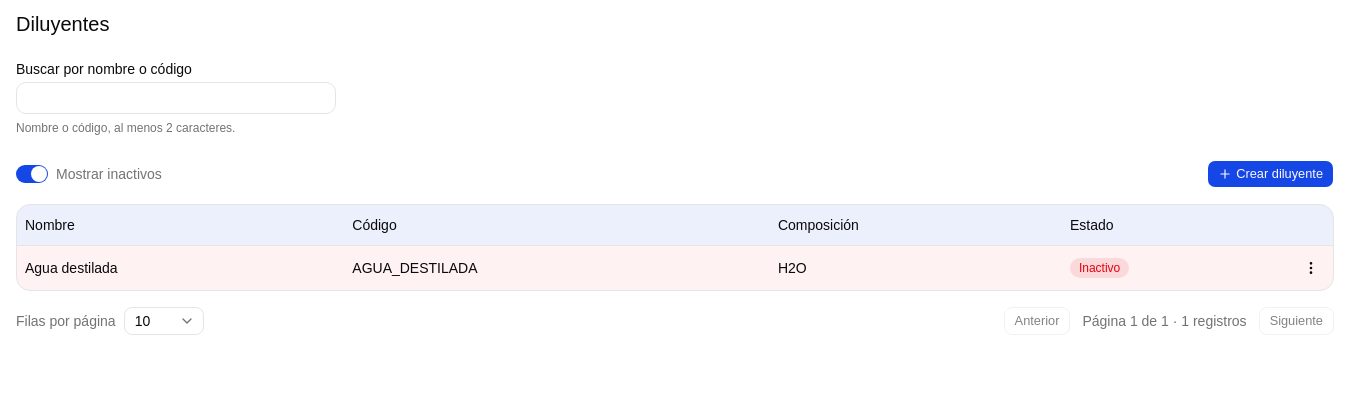
DiluentListPage — acciones por rol › con SUPERADMIN, una fila inactiva ofrece «Editar», «Ver auditoría» y «Reactivar»
Click the button named "Acciones del diluyente" at (1311, 268), box [1297, 254, 1325, 282]
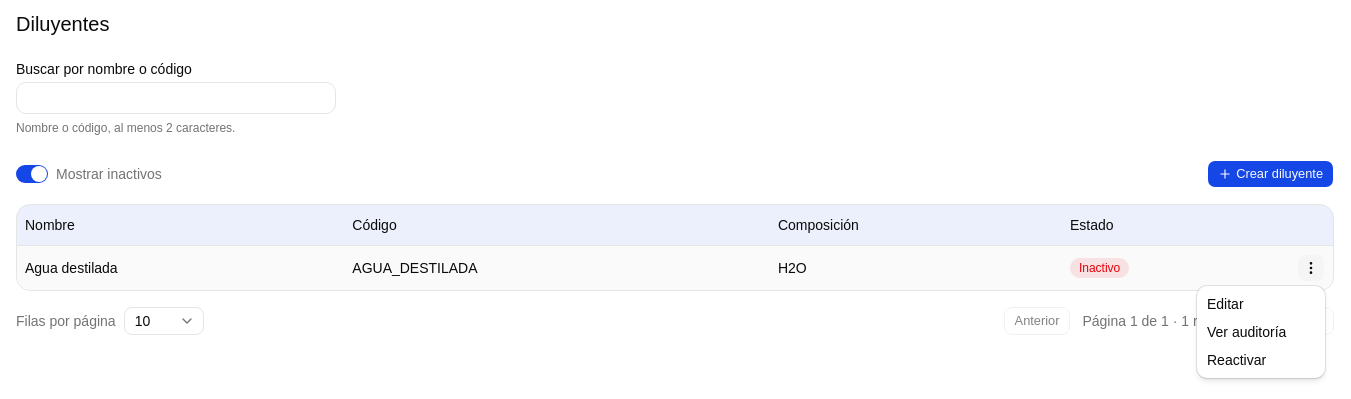
Expected: the menu item "Editar" is shown, [1207, 296, 1244, 312]
Expected: the menu item "Ver auditoría" is shown, [1207, 324, 1286, 340]
Expected: the menu item "Reactivar" is shown, [1207, 352, 1266, 368]
